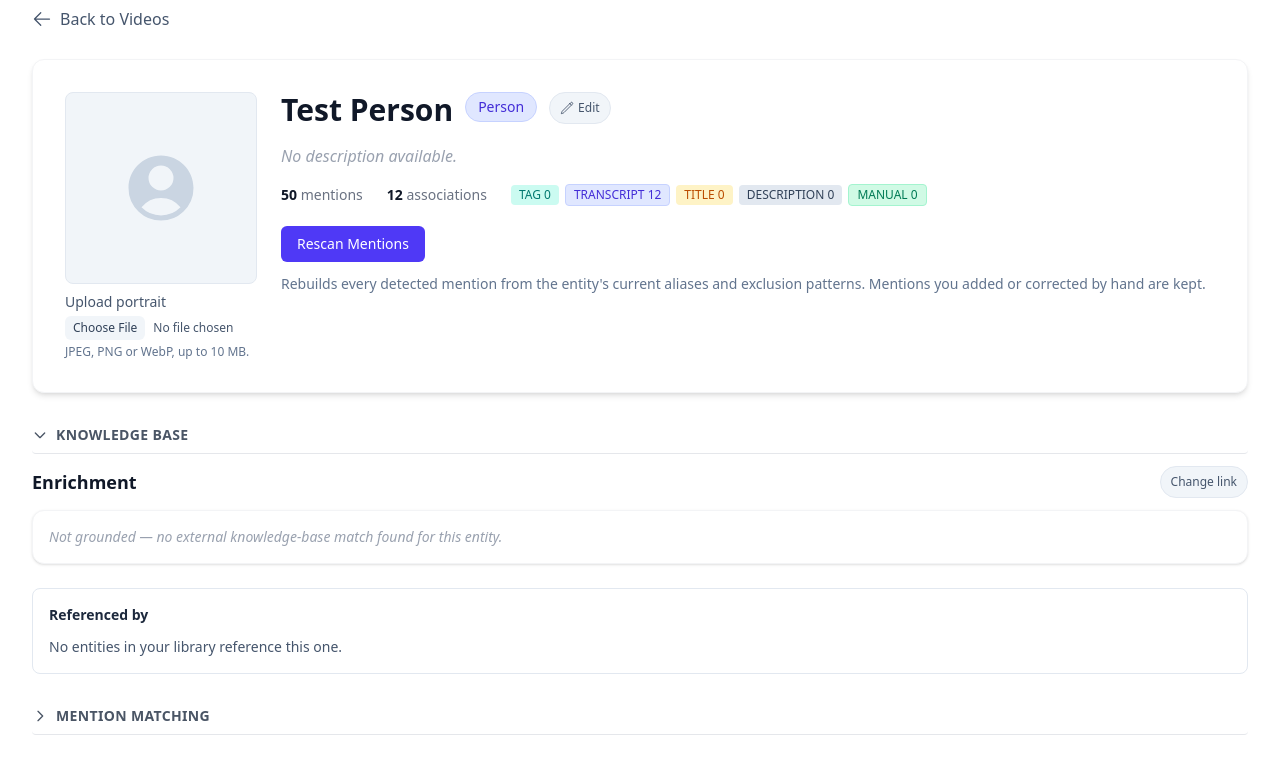
Test case: EntityDetailPage — alias name/type edit (#289) › opens an editor pre-filled with the current name and type
What coordinates should you click on to do the following:
click the button "Mention matching"
I would click on:
 (133, 716)
Its box is [32,698,1248,735].
(page scrolled)
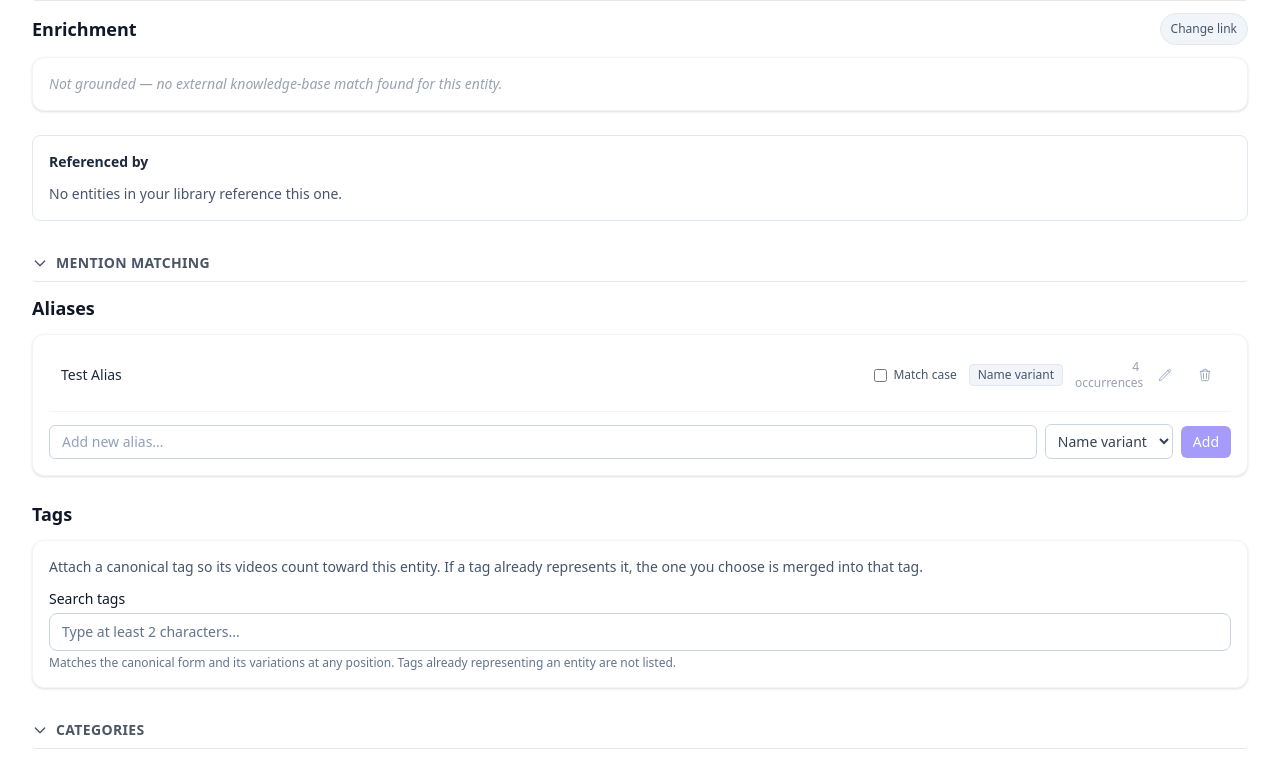
What coordinates should you click on to do the following:
click the button named "edit alias \"test alias\""
I would click on:
 (1165, 375)
Its box is [1151,361,1179,389].
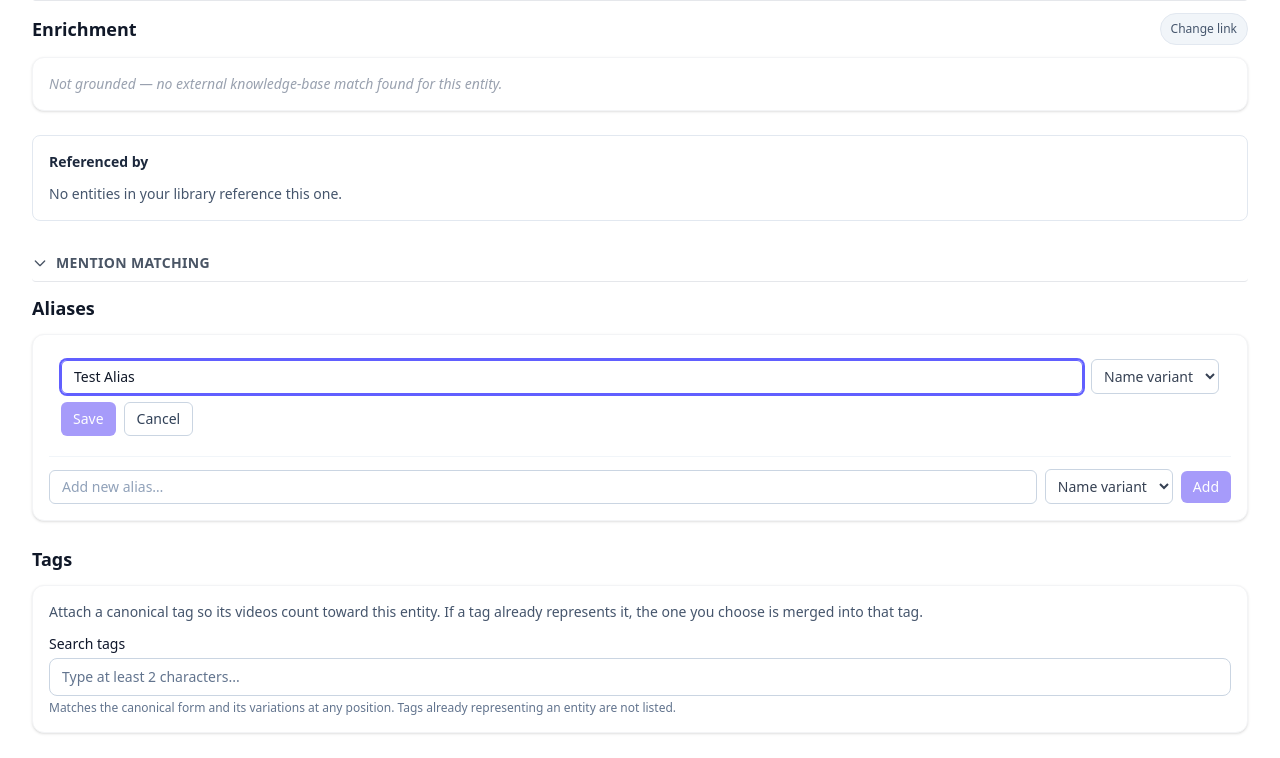
Result: the field named "alias name for \"test alias\"" holds "Test Alias" at [61,360,1083,394]
Result: the dropdown named "alias type for \"test alias\"" shows "Name variant" at [1091,359,1219,394]
